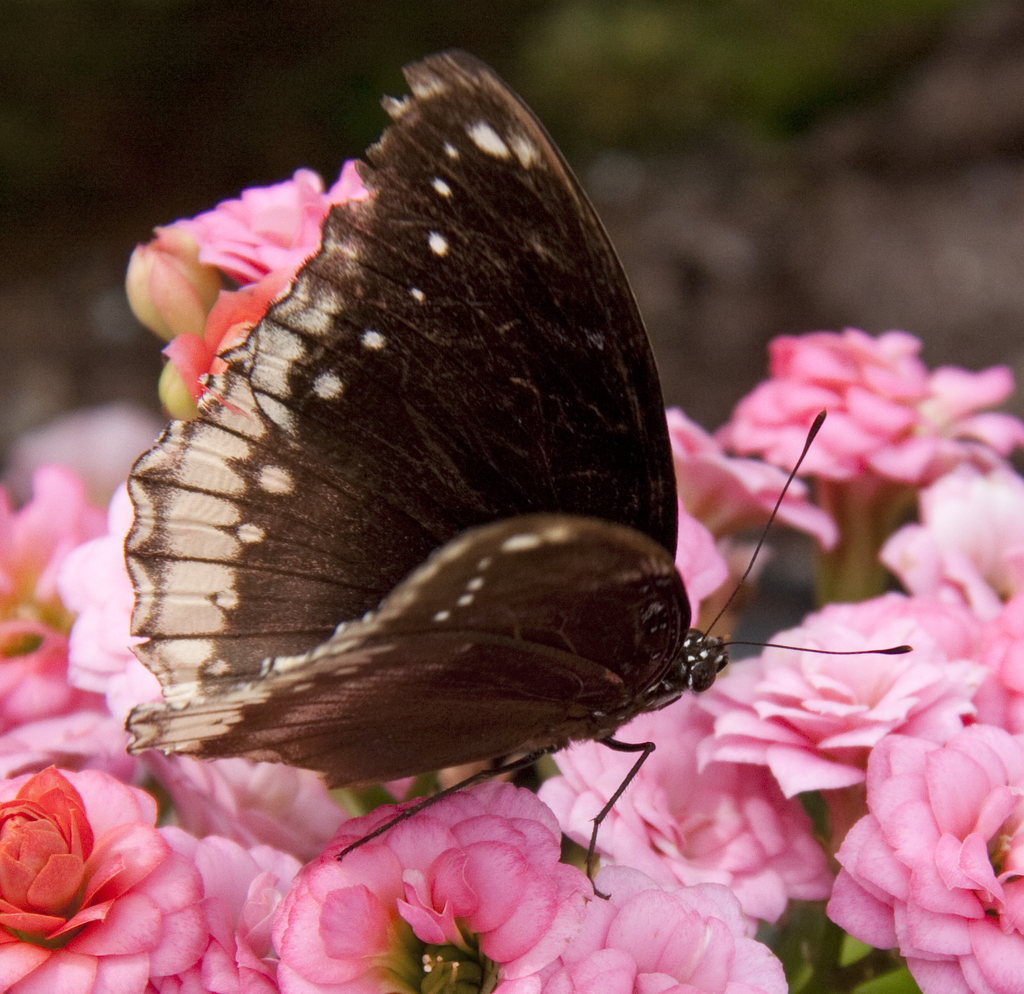Butterfly: (118, 57, 860, 852)
